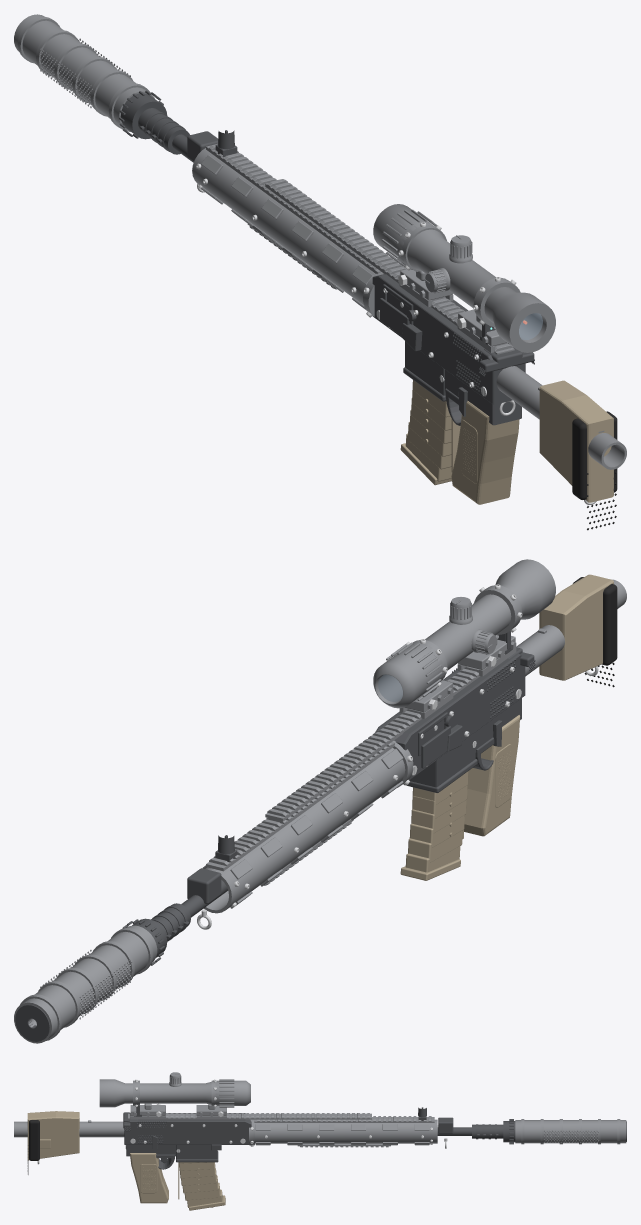
The model's file is scout.glb.
The picture shows the model from 3 angles, top to bottom: view 1: azimuth 30°, elevation 25°; view 2: azimuth 150°, elevation 25°; view 3: azimuth 270°, elevation 25°; orthographic projection. The views are drawn at different scales.
Parts seen in each view (by area): view 1: Receiver, Magazine; view 2: Receiver, Magazine; view 3: Receiver, Magazine.
Part boxes in pixels (x1,y1,x2,y2): Receiver: [14, 14, 626, 530]; Magazine: [400, 380, 460, 485]; Receiver: [14, 559, 626, 1043]; Magazine: [400, 771, 468, 880]; Receiver: [14, 1072, 626, 1203]; Magazine: [178, 1162, 225, 1210].
Bounding box in the file's own units: 0.0601 × 0.2525 × 1.05.
